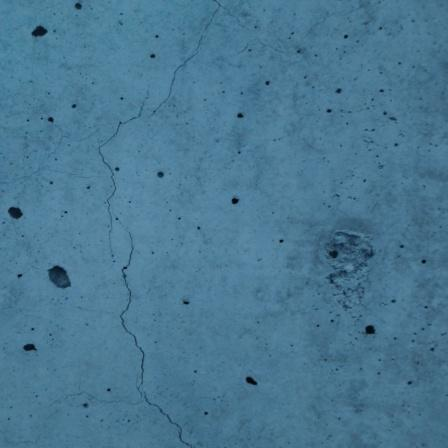crack: (72, 72, 156, 274), (214, 0, 375, 91), (107, 203, 150, 399), (0, 111, 106, 186), (32, 378, 145, 425), (141, 44, 202, 126), (183, 0, 259, 51), (136, 388, 198, 448), (3, 432, 43, 447)
spalling: (305, 220, 385, 316)
